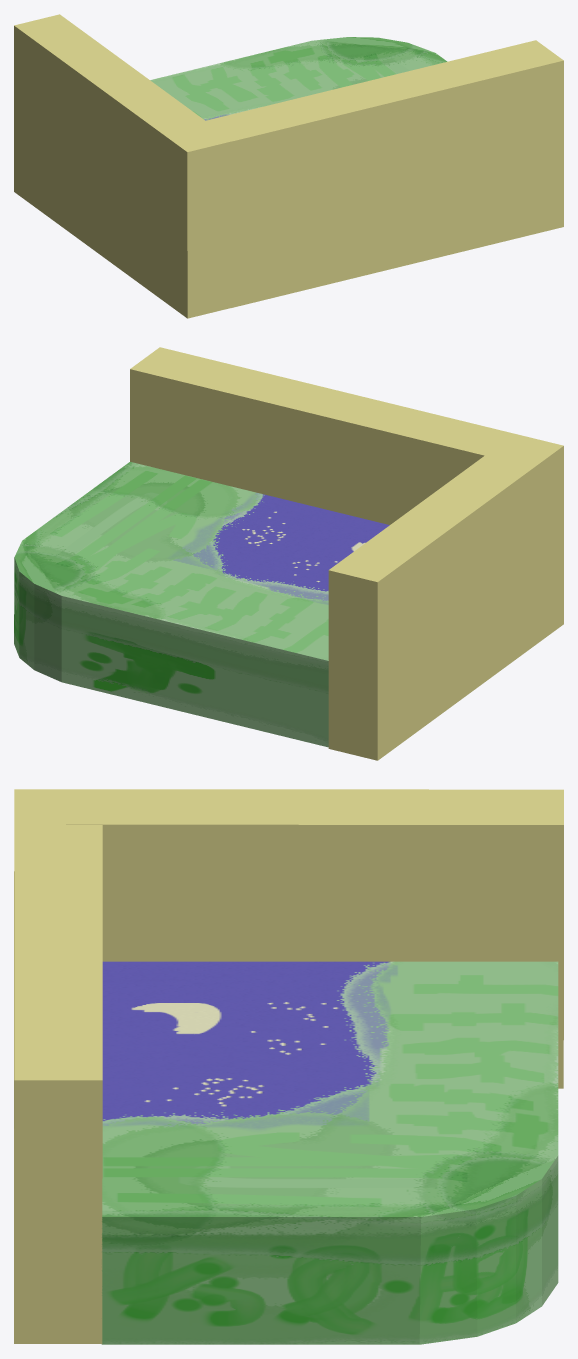
Rendered from bed00.fbx.
The picture shows the model from 3 angles, top to bottom: view 1: azimuth 30°, elevation 25°; view 2: azimuth 150°, elevation 25°; view 3: azimuth 270°, elevation 25°; orthographic projection. The views are drawn at different scales.
Visible parts, largest first — view 1: Борт1, Борт2, Кровать(матрас); view 2: Кровать(матрас), Борт2, Борт1; view 3: Кровать(матрас), Борт2, Борт1.
Boxes of the visible parts, x1,y1,x2,y2 form: Борт1: (206, 40, 563, 307); Борт2: (14, 14, 232, 318); Кровать(матрас): (150, 37, 447, 120); Кровать(матрас): (14, 462, 389, 747); Борт2: (328, 434, 563, 760); Борт1: (130, 347, 514, 524); Кровать(матрас): (101, 961, 558, 1344); Борт2: (14, 789, 563, 1088); Борт1: (14, 824, 102, 1343).
Size of the model in its own units: 181 by 76.68 by 144.
